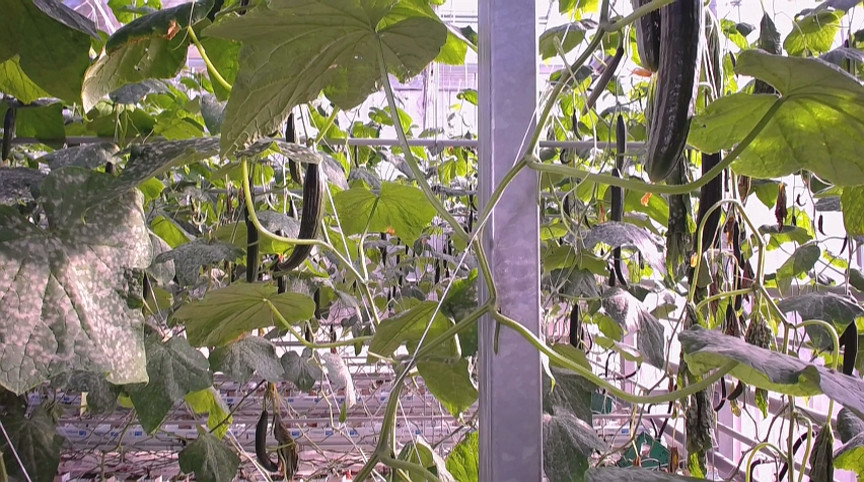cucumber: (648, 1, 704, 181), (278, 165, 323, 271), (695, 154, 727, 254), (634, 1, 663, 76), (256, 409, 279, 473), (283, 111, 302, 188), (244, 221, 260, 286), (610, 168, 624, 225)
